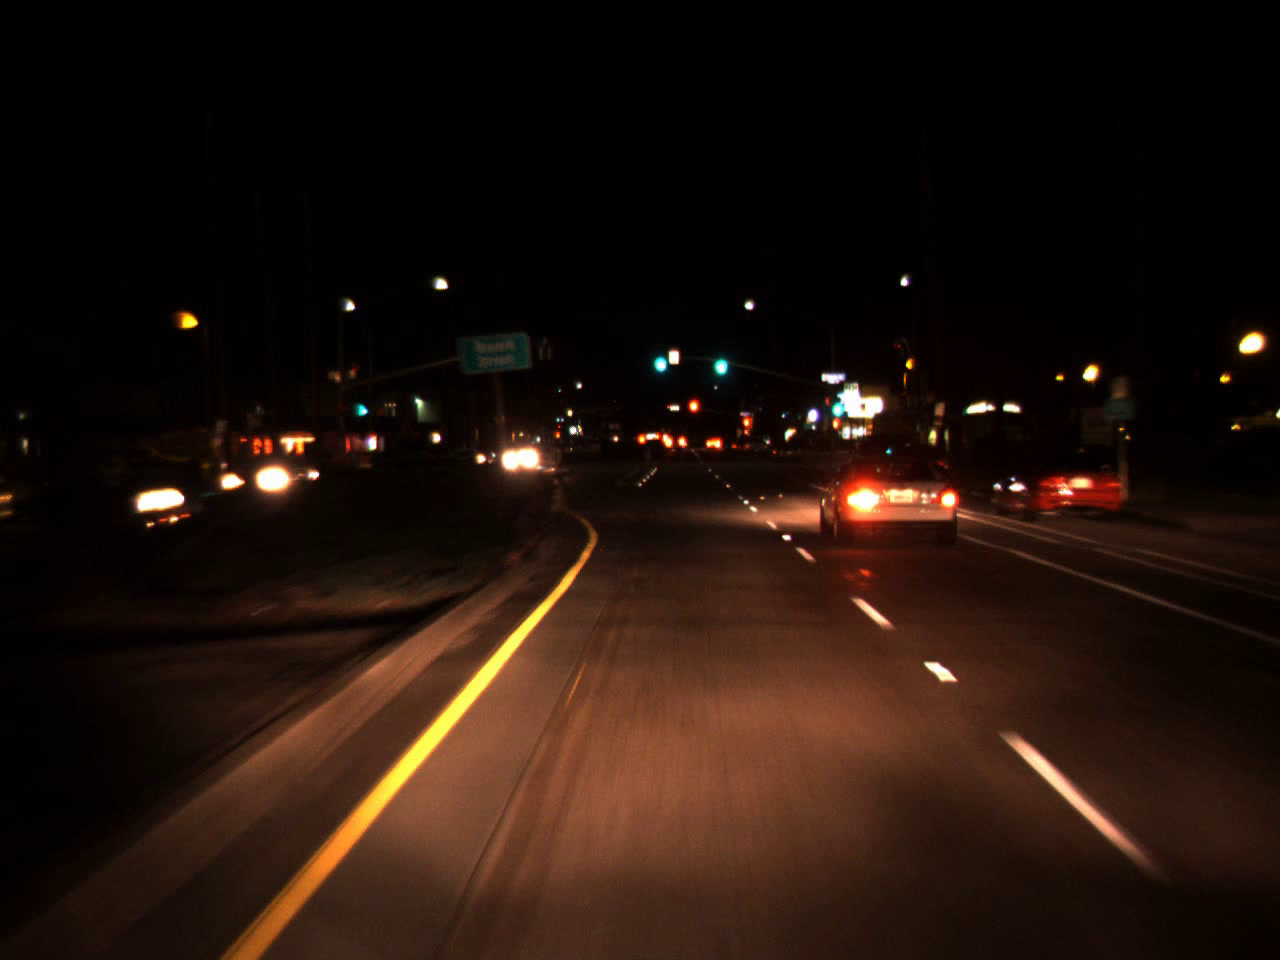go: (710, 339, 729, 381), (651, 338, 669, 377), (828, 390, 844, 420), (356, 394, 365, 418)
stop: (740, 412, 753, 449), (686, 397, 701, 429)
